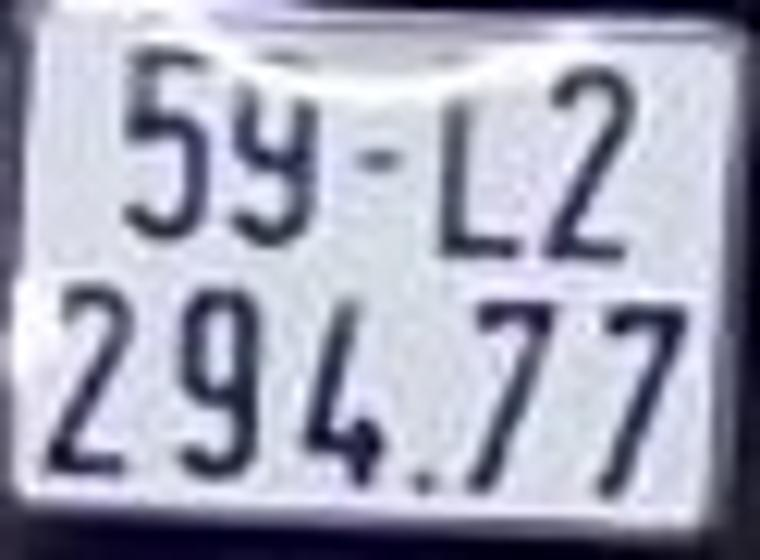-: (356, 144, 404, 173)
.: (407, 472, 436, 496)
2: (550, 67, 626, 262), (53, 289, 129, 476)
4: (304, 296, 381, 488)
5: (119, 51, 201, 241)
7: (600, 302, 685, 500), (471, 300, 547, 497)
9: (241, 51, 319, 246), (180, 294, 258, 476)
L: (437, 77, 523, 265)
